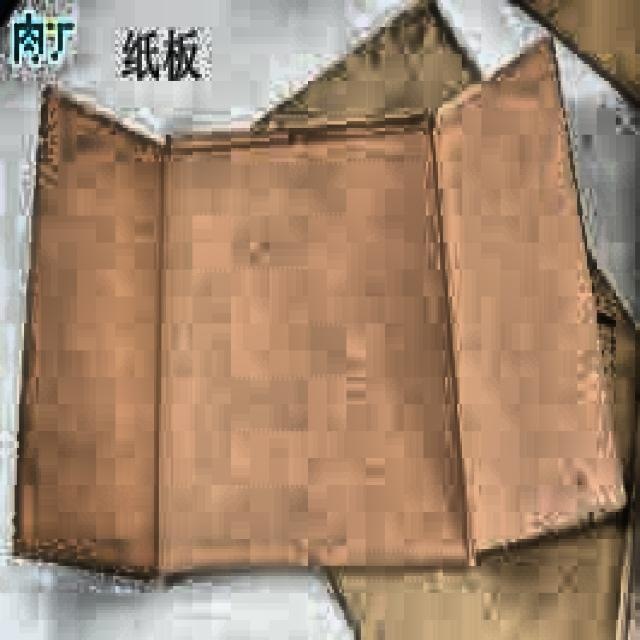cardboard: (9, 9, 630, 580)
